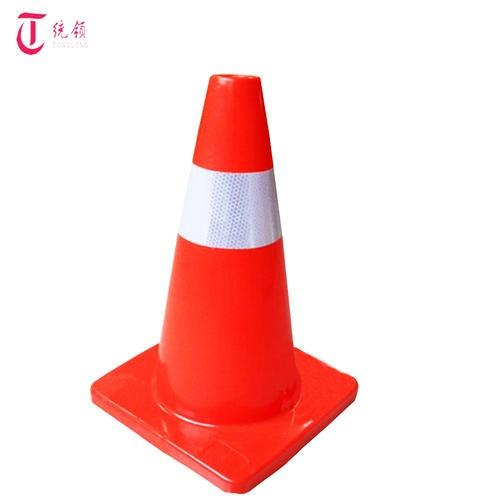cone_barrel: (130, 80, 318, 453)
